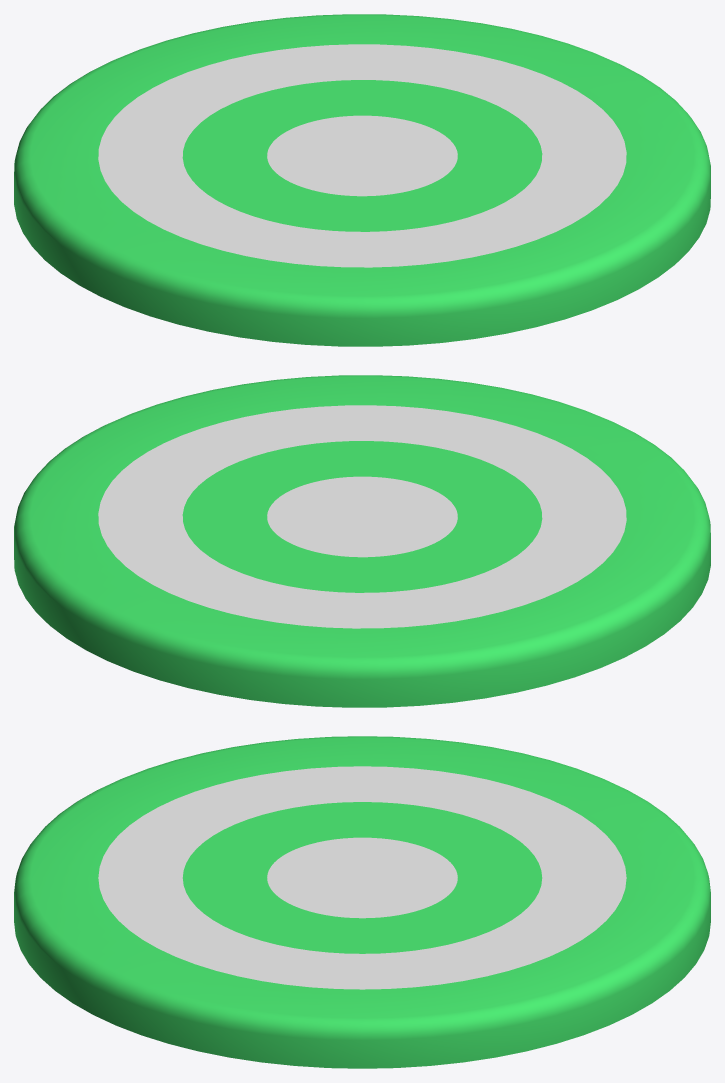
Rendered from jumper.fbx.
3 views of the same model, one above another, from view 1: azimuth 30°, elevation 25°; view 2: azimuth 150°, elevation 25°; view 3: azimuth 270°, elevation 25° (orthographic).
Visible parts, largest first — view 1: Cylinder.002; view 2: Cylinder.002; view 3: Cylinder.002.
Boxes of the visible parts, x1,y1,x2,y2 form: Cylinder.002: [14, 14, 710, 346]; Cylinder.002: [14, 375, 710, 707]; Cylinder.002: [14, 736, 710, 1068].
Size of the model in its own units: 9.98 by 0.6883 by 9.98.
